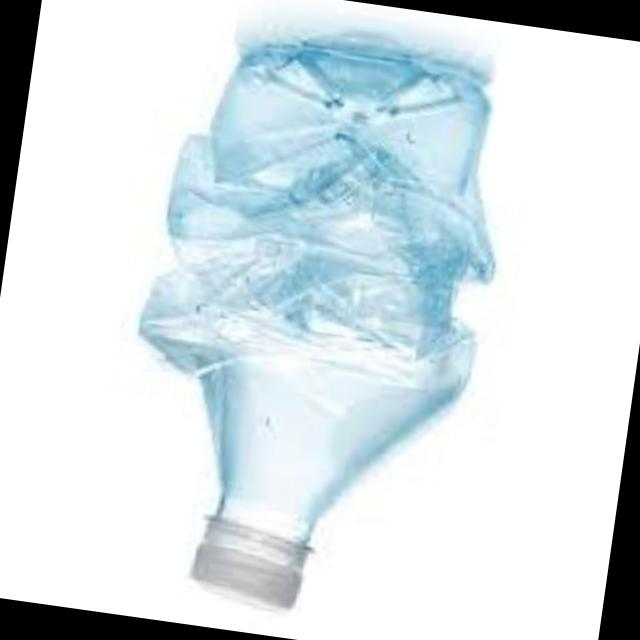plastic: (144, 54, 496, 612)
